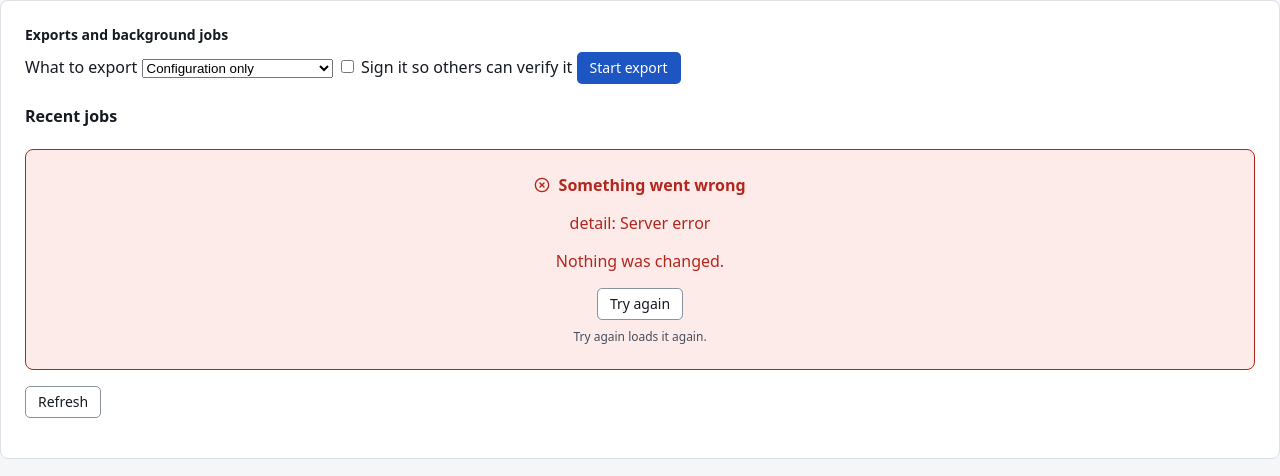
Test: JobsPanel › shows a load failure with a retry instead of an empty list
Click the button "Try again": (640, 304) [597,288,683,320]
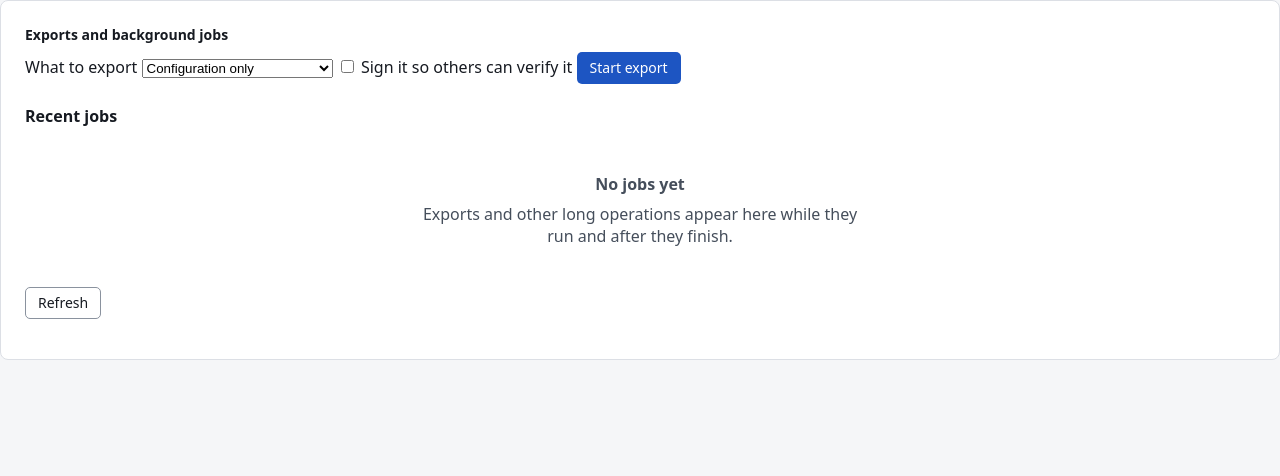
Check: the text "No jobs yet" is shown, box [595,172,685,194]
